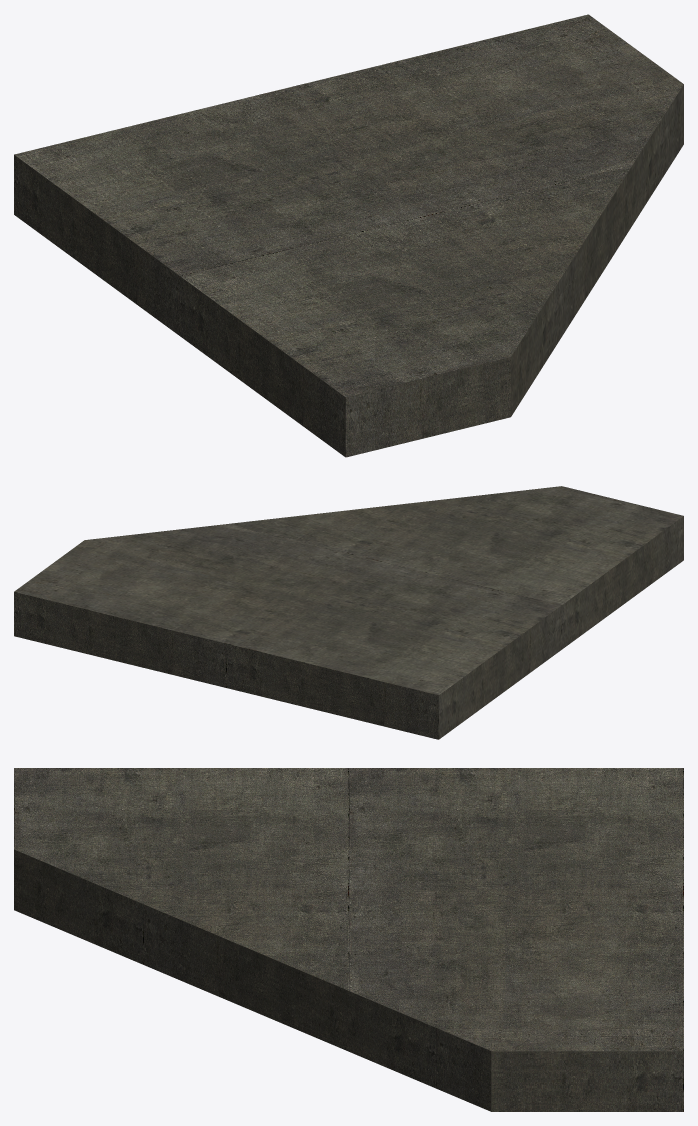
The model's file is floor_ceiling_hr_5_m1a_1.glb.
3 views of the same model, one above another, from view 1: azimuth 30°, elevation 25°; view 2: azimuth 150°, elevation 25°; view 3: azimuth 270°, elevation 25° (orthographic). The views are drawn at different scales.
Parts seen in each view (by area): view 1: floor_ceiling_hr_5_m1a_1; view 2: floor_ceiling_hr_5_m1a_1; view 3: floor_ceiling_hr_5_m1a_1.
Boxes of the visible parts, x1,y1,x2,y2 form: floor_ceiling_hr_5_m1a_1: [14, 14, 683, 457]; floor_ceiling_hr_5_m1a_1: [14, 486, 683, 739]; floor_ceiling_hr_5_m1a_1: [14, 768, 683, 1111].
Bounding box in the file's own units: 4 × 0.4 × 4.
Materials: 1 (1 with a texture image).
